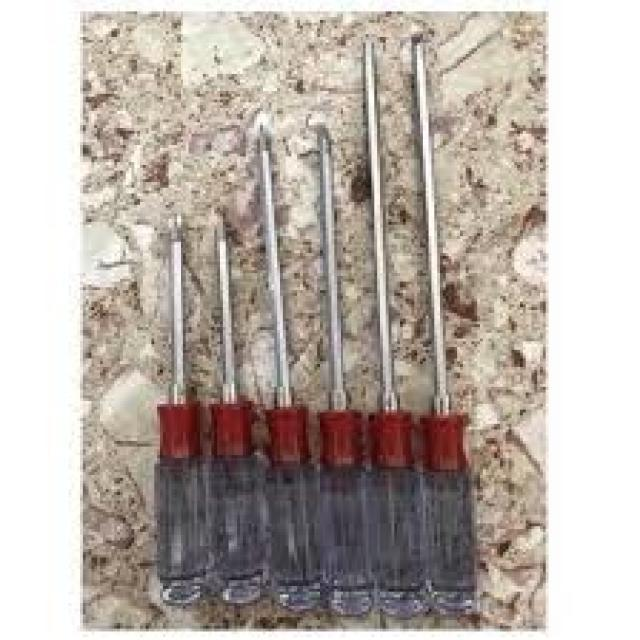screwdriver: (403, 28, 480, 614), (358, 34, 433, 617), (314, 122, 377, 618), (256, 122, 318, 614), (153, 212, 210, 607), (208, 207, 263, 608)
